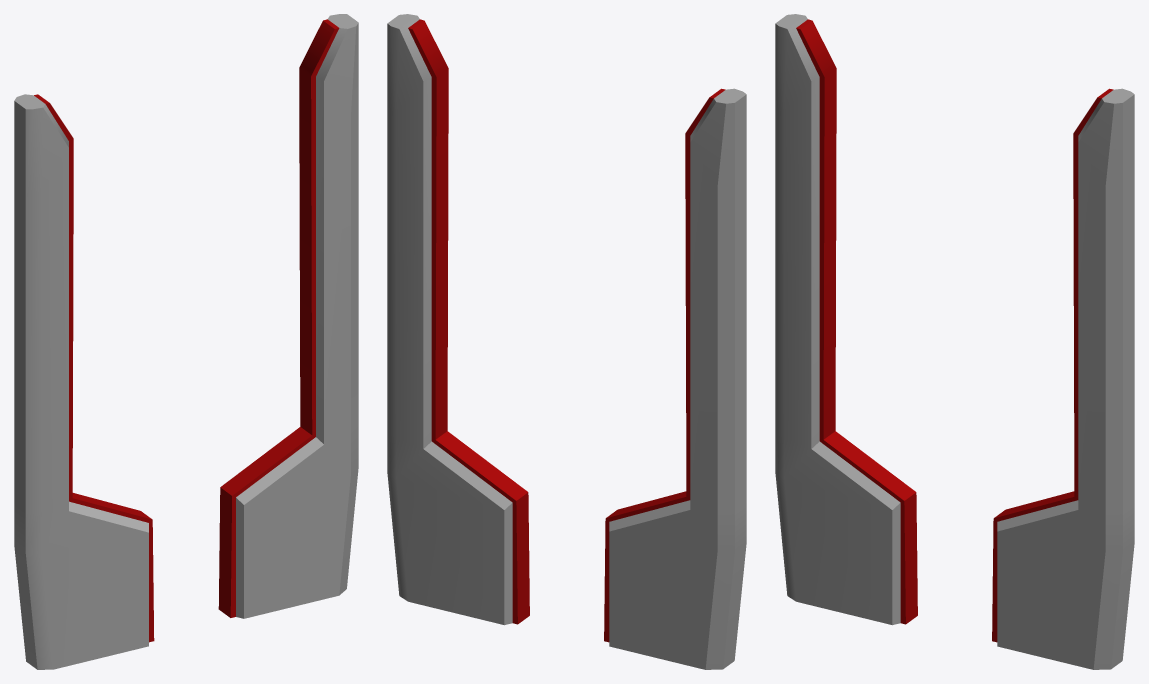
Rendered from NewsPannel_fbx_v3.fbx.
3 renders of one model, left to right at view 1: azimuth 30°, elevation 25°; view 2: azimuth 150°, elevation 25°; view 3: azimuth 330°, elevation 25°, orthographic.
Visible parts, largest first — view 1: pCube4; view 2: pCube4; view 3: pCube4.
Boxes of the visible parts, <box> form: pCube4: <box>14,14,358,669</box>; pCube4: <box>387,14,746,669</box>; pCube4: <box>775,14,1134,669</box>.
Size of the model in its own units: 2.04 by 3.25 by 0.2548.
